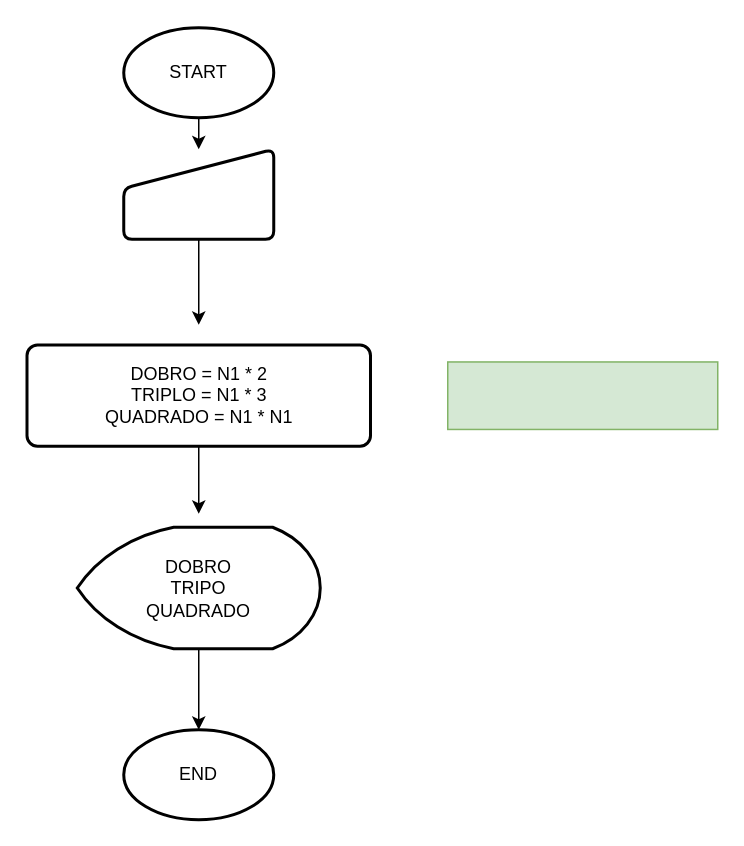
Image size: 744x846. Some labels were removed from this diagram. Here are the shapes that lost their labels. From the top down, the centre of each, then its label:
point 198,193: N1 (INTEIRO)
point 582,394: *AQUI NO QUADRADO PODE SER TAMBEM ASSIM: N1 ** 2
